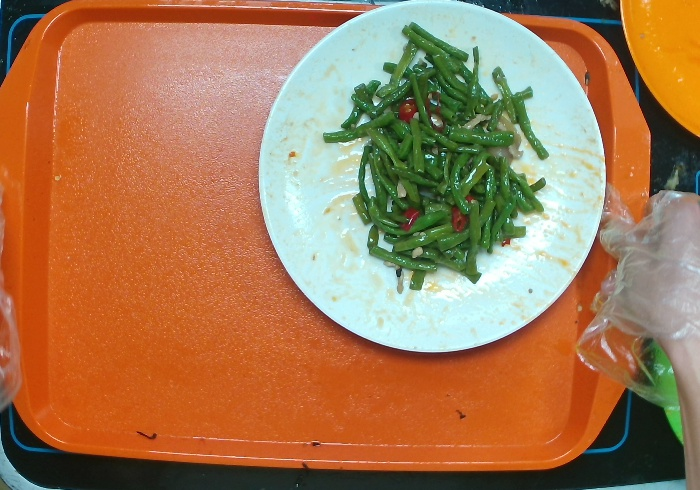HZYJPL-Bai_Se_Yuan_Pan: (252, 1, 608, 357)
